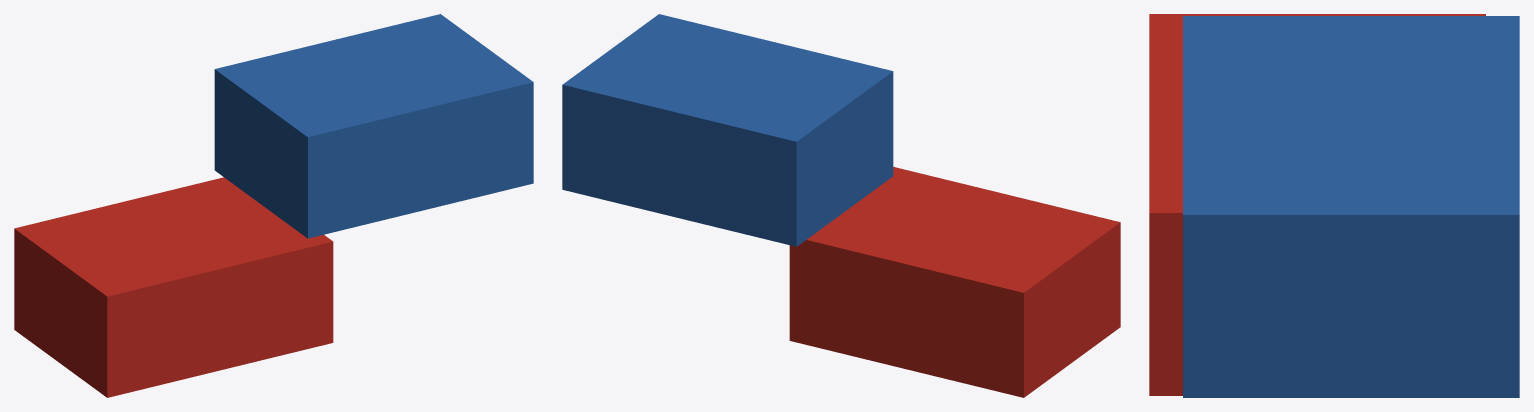
The model's file is caixote_peixe.glb.
The picture shows the model from 3 angles, left to right: view 1: azimuth 30°, elevation 25°; view 2: azimuth 150°, elevation 25°; view 3: azimuth 270°, elevation 25°; orthographic projection. The views are drawn at different scales.
Parts seen in each view (by area): view 1: caixote_peixe; view 2: caixote_peixe; view 3: caixote_peixe.
Boxes of the visible parts, left/top/right/bottom form: caixote_peixe: left=14, top=14, right=533, bottom=397; caixote_peixe: left=562, top=14, right=1120, bottom=397; caixote_peixe: left=1149, top=14, right=1519, bottom=397.
Bounding box in the file's own units: 1.35 × 0.6 × 0.55.
